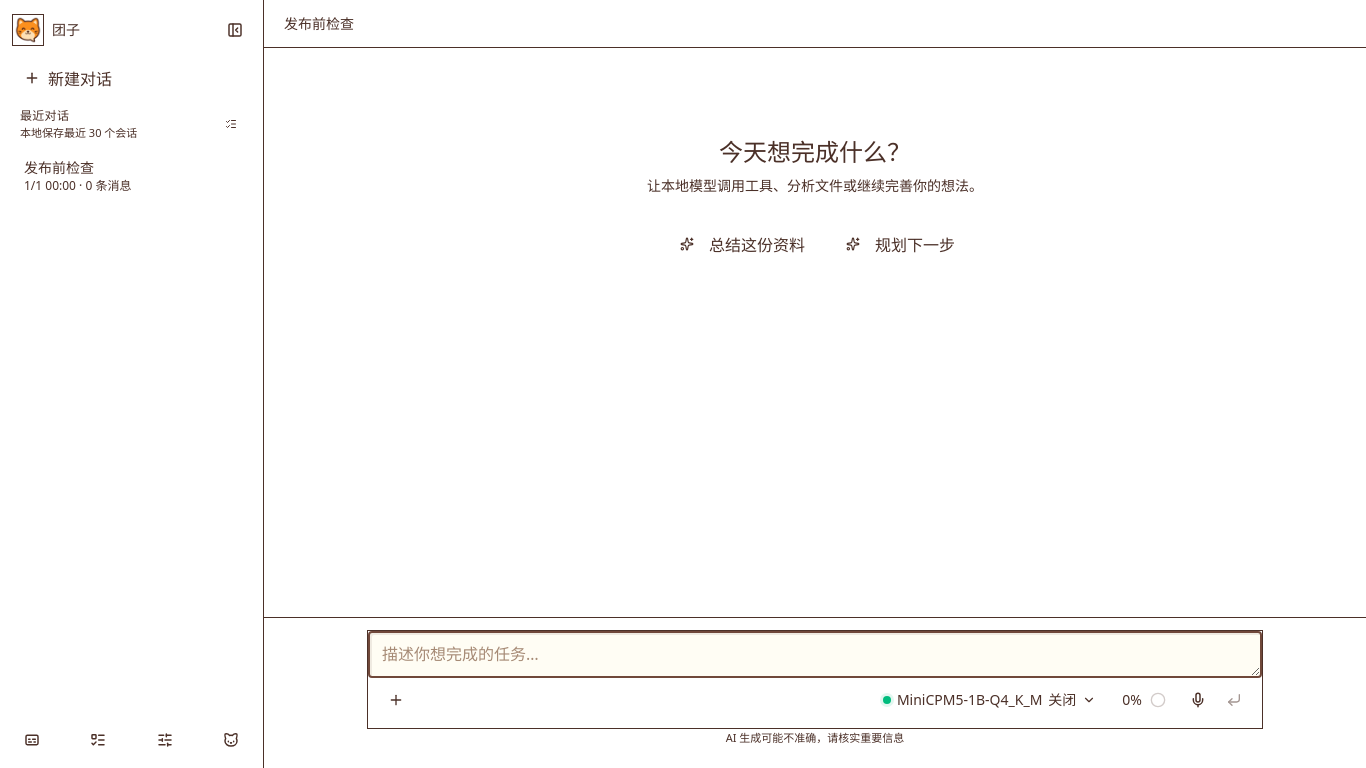
Scenario: ChatPanel workbench › fills a template and moves focus to the composer
Click the button "总结这份资料".
click(740, 244)  # box 661,222 -> 819,266
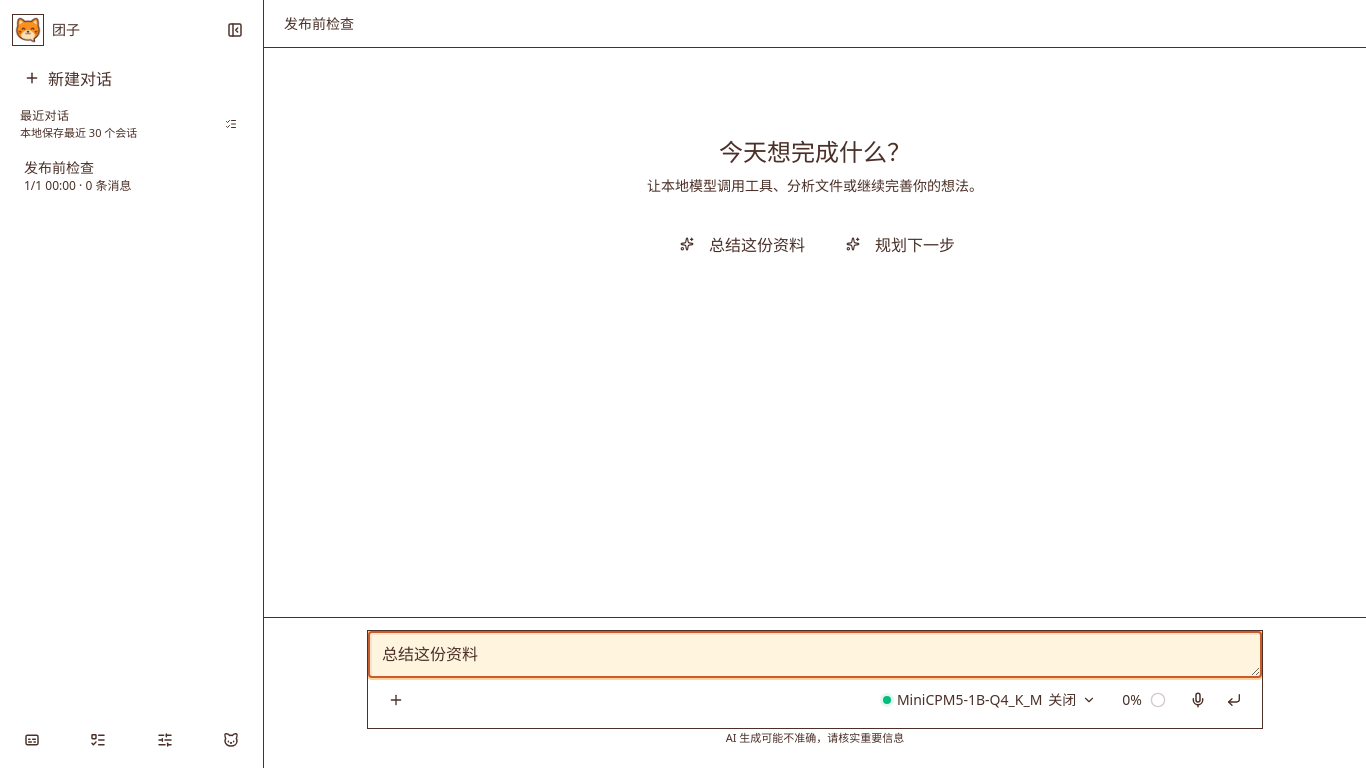
Now the text box with placeholder "描述你想完成的任务…" holds "总结这份资料", box 368,631 -> 1262,678
